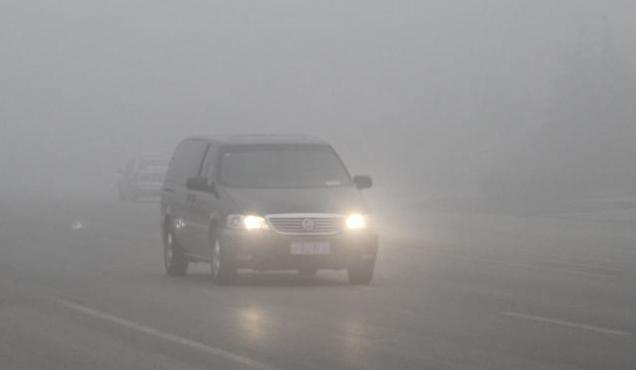car: (159, 129, 377, 288), (113, 152, 176, 199)
